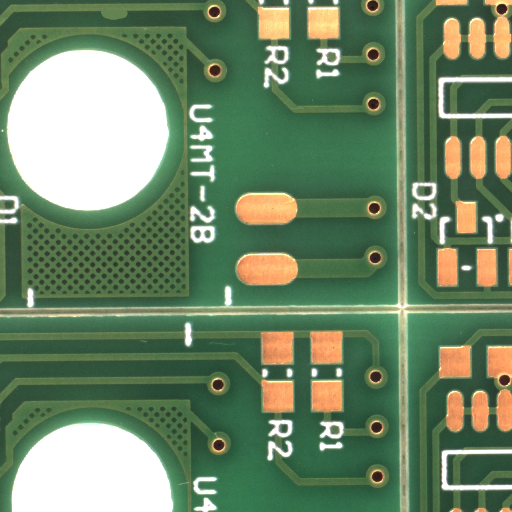Spur: (115, 14, 150, 25)
